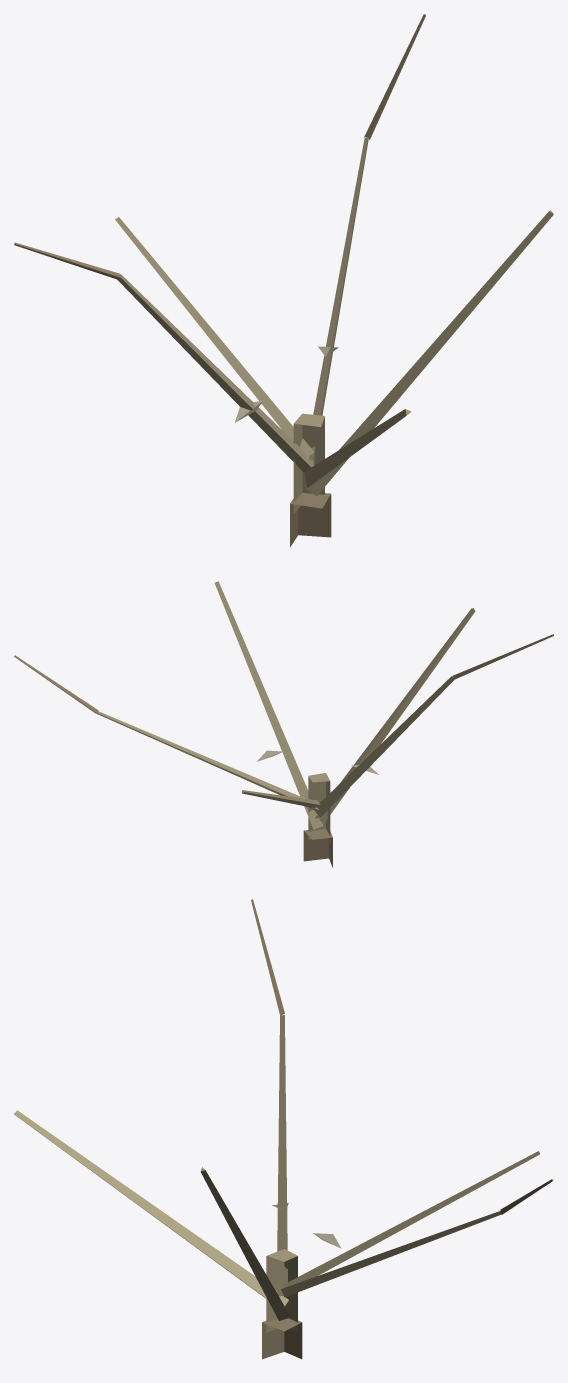
File: shu.masan@withered__summer.glb
The picture shows the model from 3 angles, top to bottom: view 1: azimuth 30°, elevation 25°; view 2: azimuth 150°, elevation 25°; view 3: azimuth 270°, elevation 25°; orthographic projection. The views are drawn at different scales.
Visible parts, largest first — view 1: shu.masan@withered__summer; view 2: shu.masan@withered__summer; view 3: shu.masan@withered__summer.
Boxes of the visible parts, x1,y1,x2,y2 form: shu.masan@withered__summer: (14, 14, 553, 546); shu.masan@withered__summer: (14, 581, 553, 867); shu.masan@withered__summer: (14, 899, 553, 1359).
Bounding box in the file's own units: 7.97 × 5.05 × 7.46.
